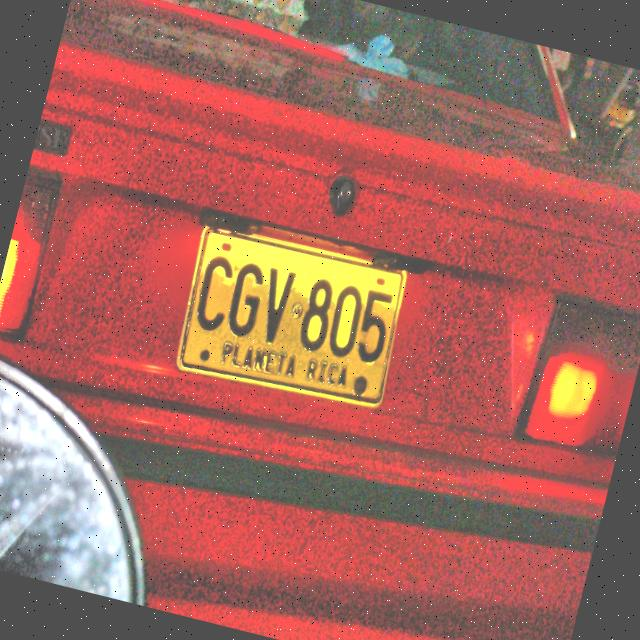0: (324, 281, 366, 362)
5: (353, 287, 395, 368)
8: (294, 274, 338, 355)
C: (190, 250, 237, 336)
G: (223, 258, 268, 342)
V: (255, 264, 298, 346)
